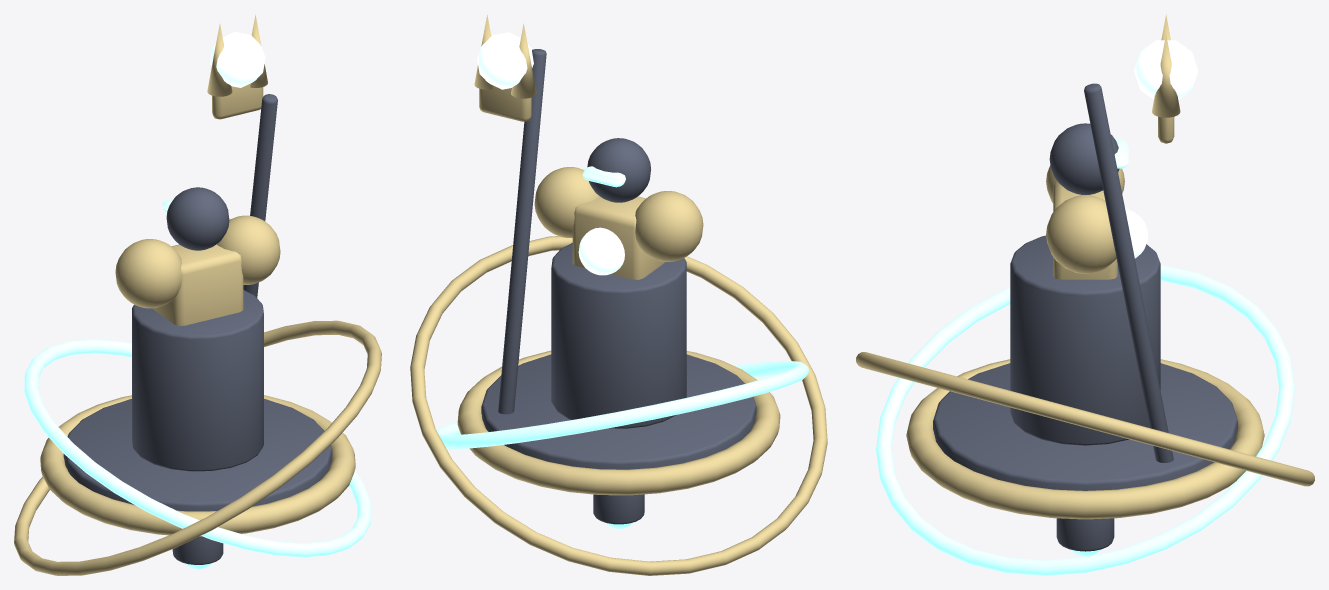
The model's file is hero_kaelen.glb.
3 renders of one model, left to right at view 1: azimuth 30°, elevation 25°; view 2: azimuth 150°, elevation 25°; view 3: azimuth 270°, elevation 25°, orthographic. The views are drawn at different scales.
Visible parts, largest first — view 1: StaticBody, Anim_Rotor, Anim_Weapon; view 2: StaticBody, Anim_Rotor, Anim_Weapon; view 3: StaticBody, Anim_Rotor, Anim_Weapon.
Boxes of the visible parts, left/top/right/bottom form: StaticBody: left=40, top=187, right=355, bottom=569; Anim_Rotor: left=14, top=320, right=381, bottom=575; Anim_Weapon: left=207, top=14, right=277, bottom=297; StaticBody: left=457, top=138, right=780, bottom=528; Anim_Rotor: left=410, top=236, right=827, bottom=575; Anim_Weapon: left=474, top=15, right=546, bottom=414; StaticBody: left=906, top=123, right=1264, bottom=556; Anim_Rotor: left=856, top=265, right=1314, bottom=575; Anim_Weapon: left=1084, top=14, right=1198, bottom=462.
Size of the model in its own units: 2.42 by 3.35 by 2.56.
